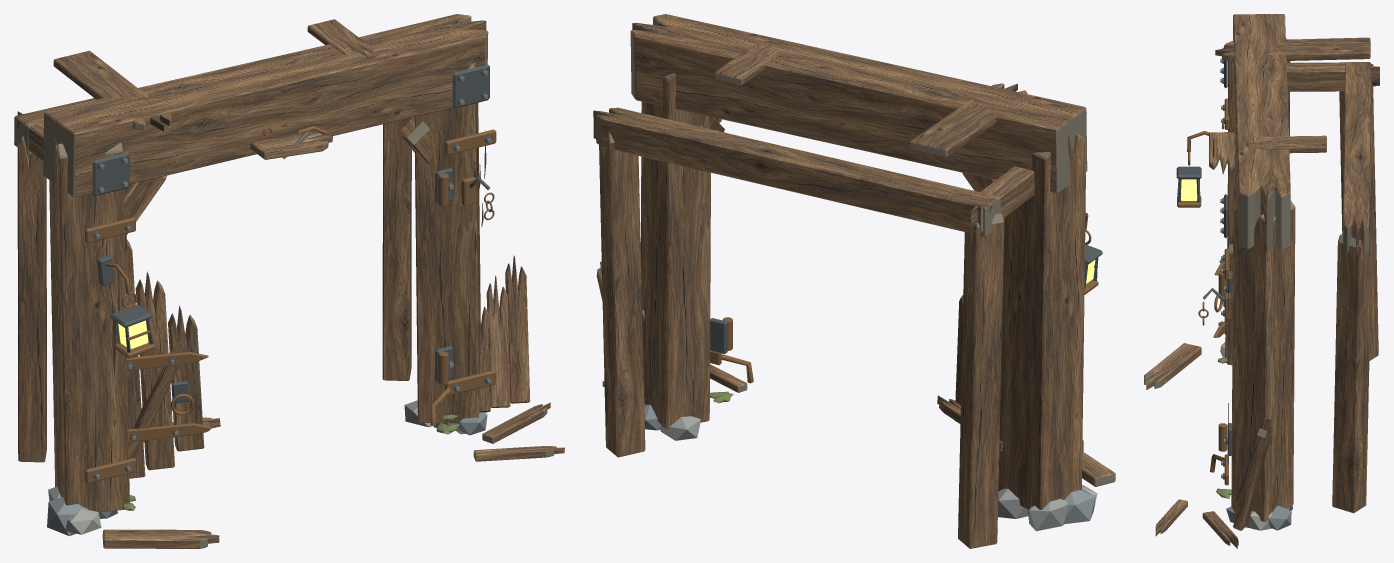
File: RuinedMineEntrance.fbx
The picture shows the model from 3 angles, left to right: view 1: azimuth 30°, elevation 25°; view 2: azimuth 150°, elevation 25°; view 3: azimuth 270°, elevation 25°; orthographic projection. The views are drawn at different scales.
Parts seen in each view (by area): view 1: Ruined_Frame_LOD0, Broken_Leaf_LOD0, Fallen_Timbers_LOD0; view 2: Ruined_Frame_LOD0, Fallen_Timbers_LOD0, Broken_Leaf_LOD0; view 3: Ruined_Frame_LOD0, Fallen_Timbers_LOD0, Broken_Leaf_LOD0.
Boxes of the visible parts, box(x1,y1,x2,y2) form: Ruined_Frame_LOD0: box(14, 14, 496, 536); Broken_Leaf_LOD0: box(124, 238, 220, 478); Fallen_Timbers_LOD0: box(102, 255, 564, 548); Ruined_Frame_LOD0: box(593, 14, 1102, 548); Fallen_Timbers_LOD0: box(596, 261, 1115, 486); Broken_Leaf_LOD0: box(937, 295, 1002, 451); Ruined_Frame_LOD0: box(1176, 14, 1379, 530); Fallen_Timbers_LOD0: box(1144, 343, 1272, 548); Broken_Leaf_LOD0: box(1213, 232, 1232, 358).
Size of what is drawn, in the model's own units: 5.05 by 3.96 by 2.45.
Materials: 14 (3 with a texture image).
